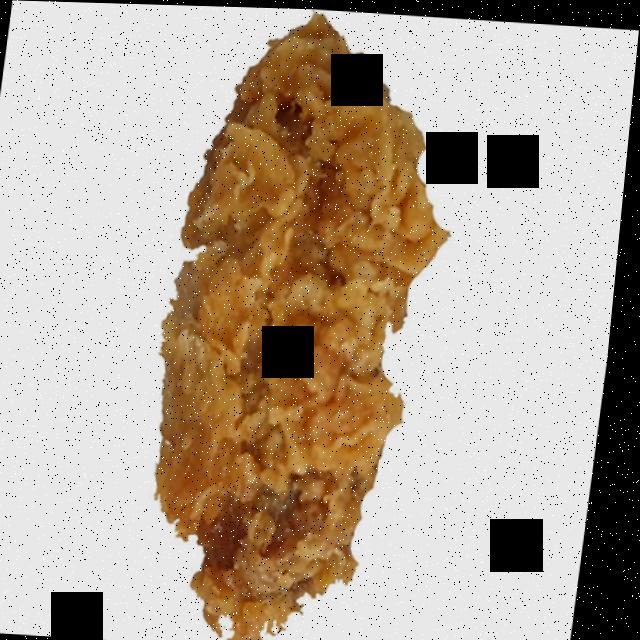Frango: (117, 4, 497, 640)
